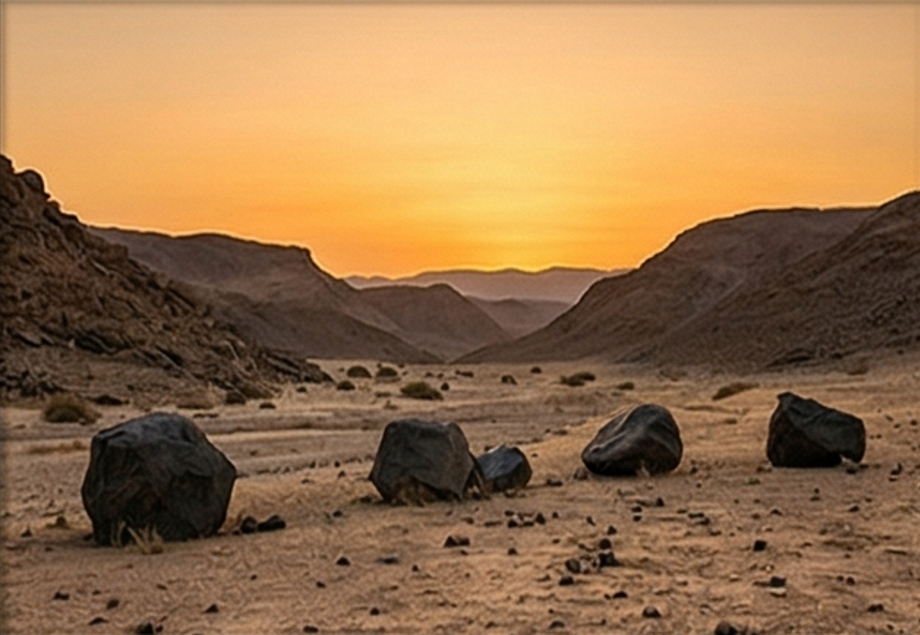rocks: (82, 413, 235, 543), (370, 419, 531, 501), (581, 404, 682, 475), (766, 393, 864, 466)
